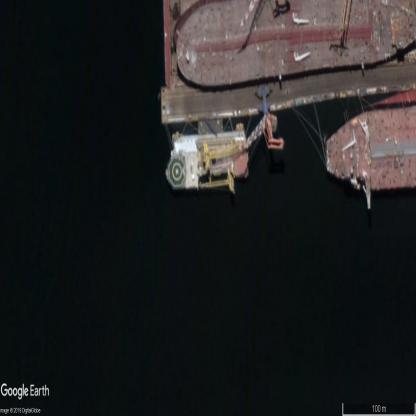ship: (166, 128, 250, 189)
